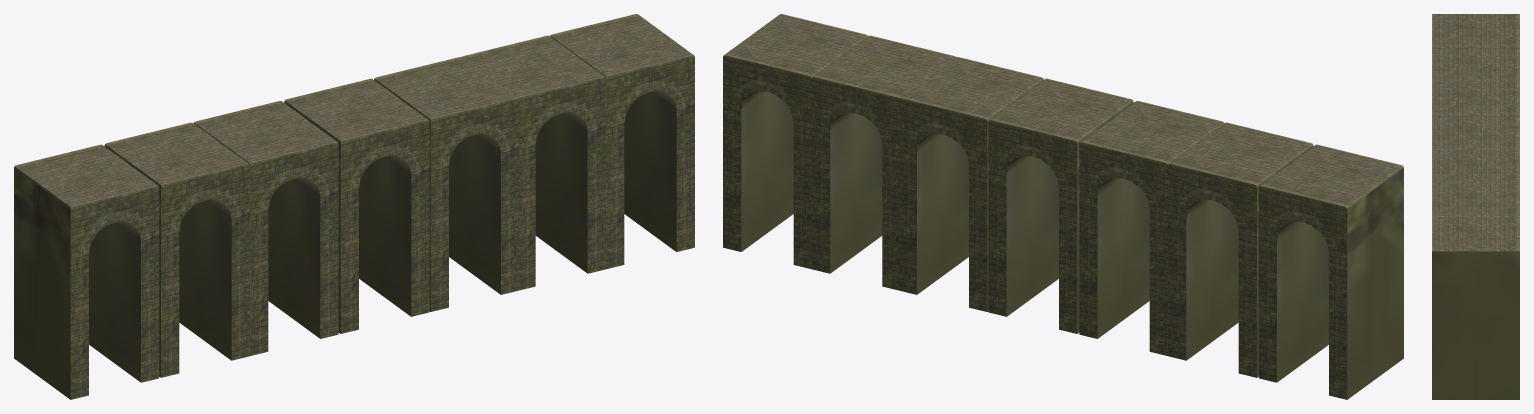
The model's file is TAMA_bridge.fbx.
3 renders of one model, left to right at view 1: azimuth 30°, elevation 25°; view 2: azimuth 150°, elevation 25°; view 3: azimuth 270°, elevation 25°, orthographic. The views are drawn at different scales.
Parts seen in each view (by area): view 1: pCylinder5, pCylinder2, pCylinder4, pCylinder1, pCylinder3, pCylinder7, pCylinder6; view 2: pCylinder5, pCylinder2, pCylinder4, pCylinder1, pCylinder3, pCylinder7, pCylinder6; view 3: pCylinder7, pCylinder2, pCylinder3, pCylinder5, pCylinder1, pCylinder4, pCylinder6.
Boxes of the visible parts, x1,y1,x2,y2 form: pCylinder5: (14,144,159,399); pCylinder2: (284,78,429,333); pCylinder4: (104,122,249,377); pCylinder1: (374,57,519,311); pCylinder3: (194,101,338,355); pCylinder7: (550,14,694,269); pCylinder6: (462,35,605,290); pCylinder5: (1258,144,1403,399); pCylinder2: (988,78,1133,333); pCylinder4: (1168,122,1313,377); pCylinder1: (898,57,1043,311); pCylinder3: (1079,101,1223,355); pCylinder7: (723,14,867,269); pCylinder6: (812,35,955,290); pCylinder7: (1432,217,1519,399); pCylinder2: (1432,116,1519,150); pCylinder3: (1432,82,1519,116); pCylinder5: (1432,14,1519,48); pCylinder1: (1432,150,1519,183); pCylinder4: (1432,48,1519,81); pCylinder6: (1432,183,1519,216).
Bounding box in the file's own units: 314 × 92.61 × 49.27.
